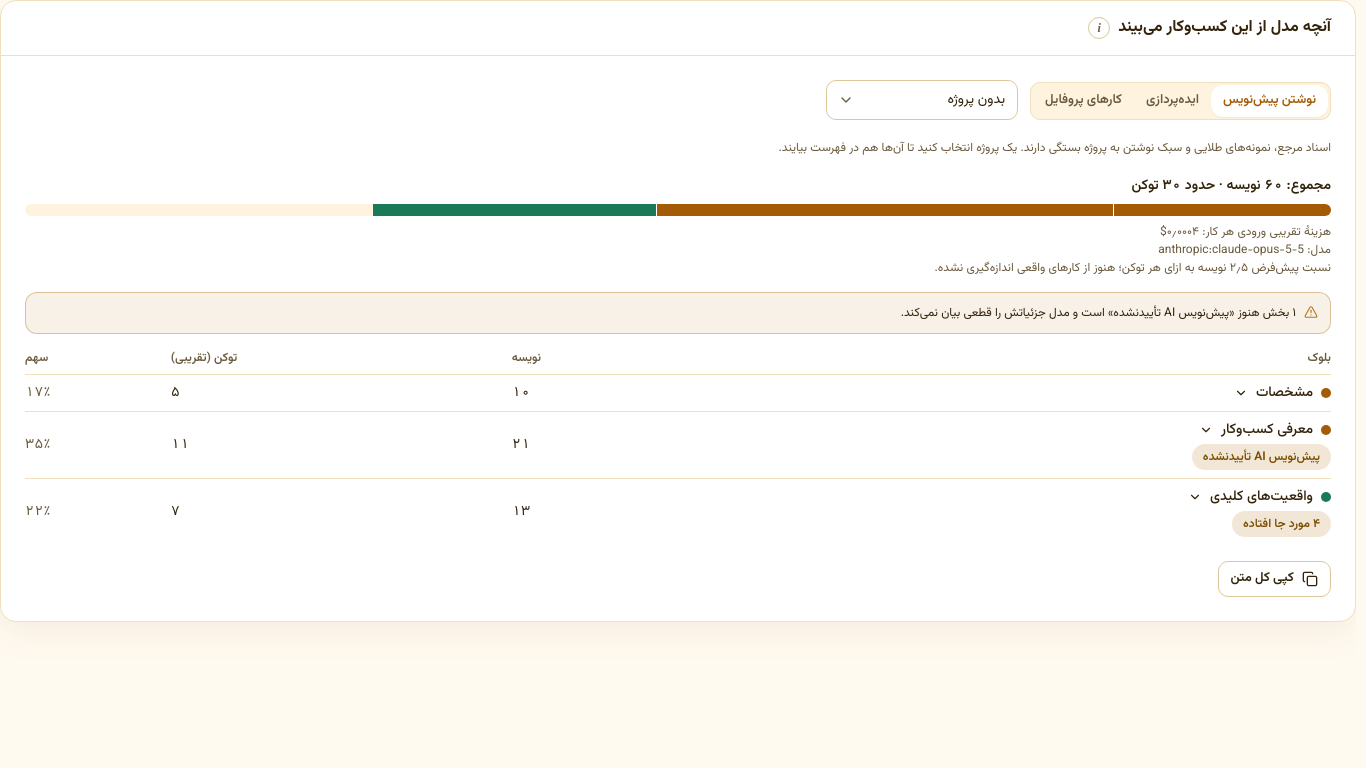
Scenario: ContextPreviewPanel › opens the exact text of a block
expect the text "Tea shop" is not shown: met
Click the button "معرفی کسب‌وکار": (1265, 430) [1199,420,1331,440]
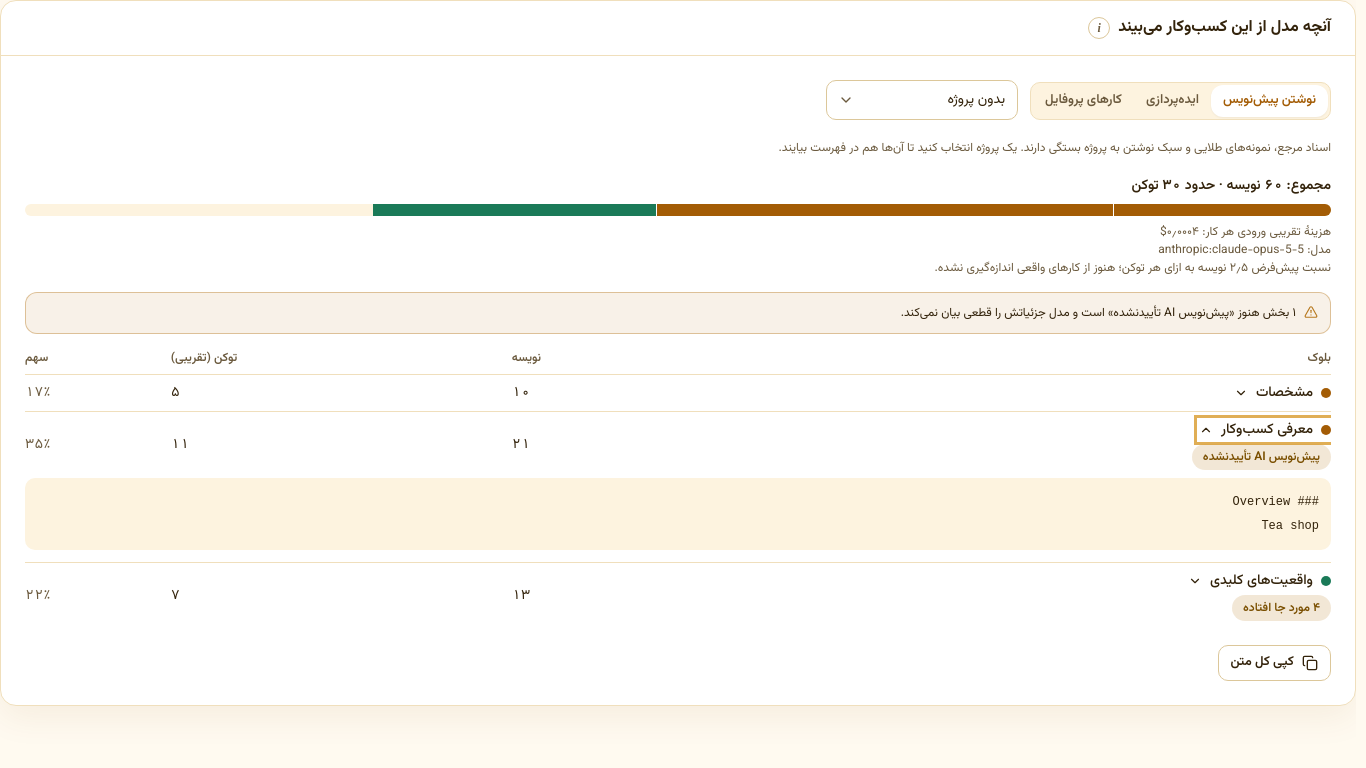
expect the text "### Overview Tea shop" is shown: met, box [25,478,1331,550]
